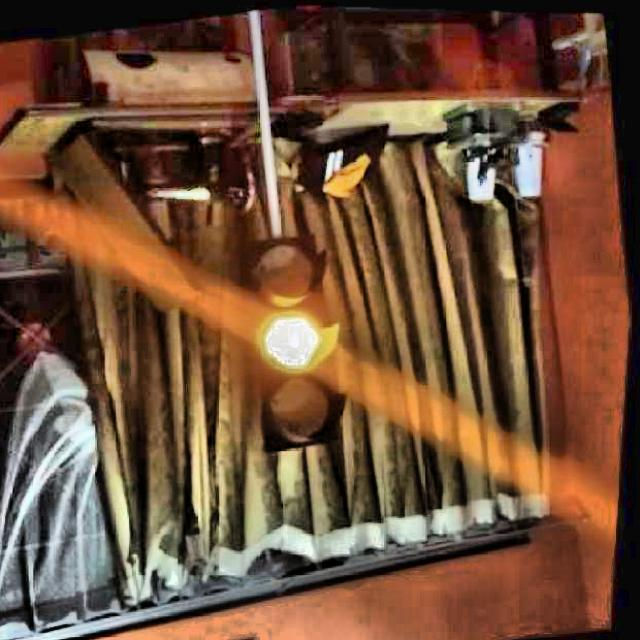yellow: (235, 228, 358, 452)
